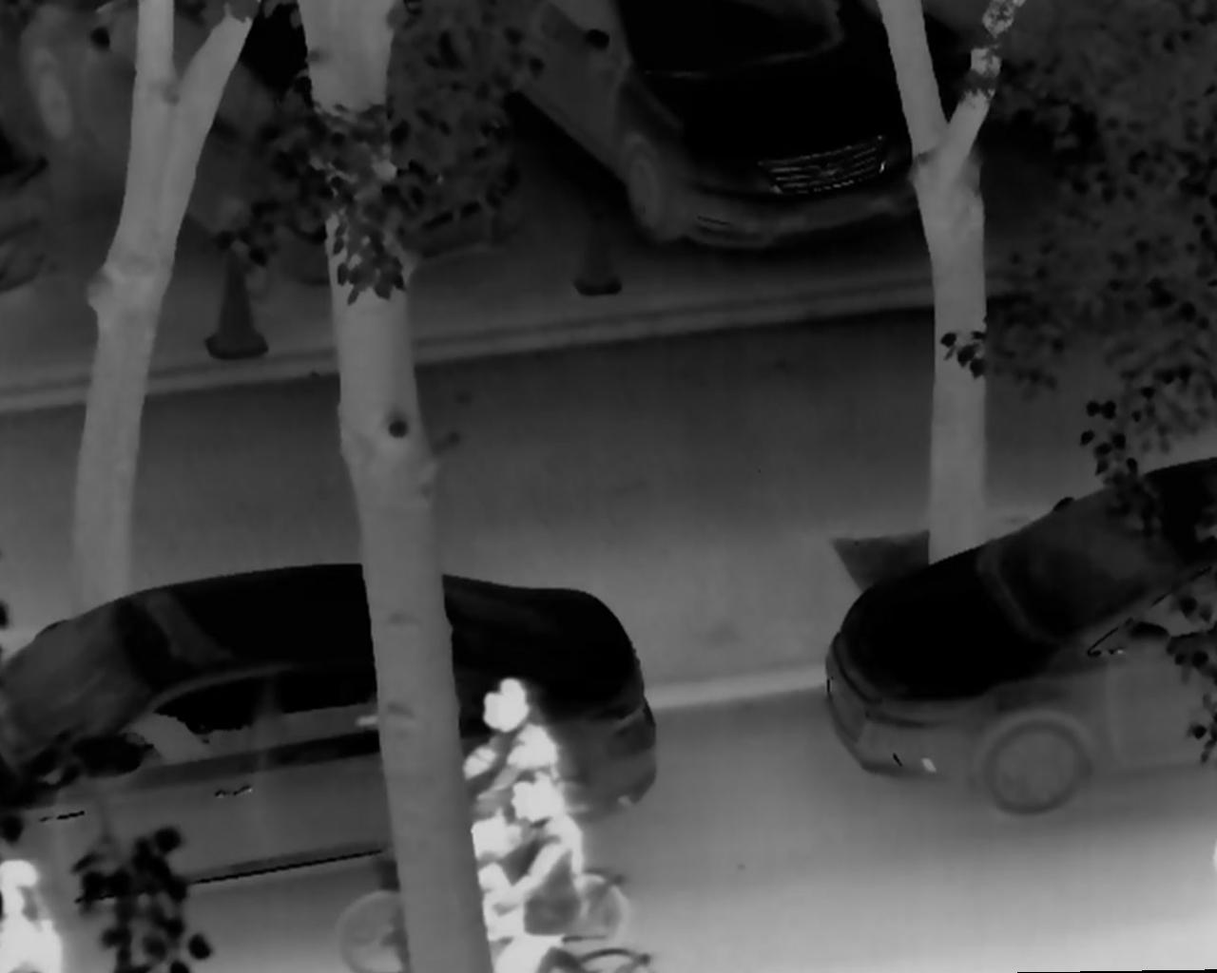person: (470, 766, 602, 973), (449, 664, 559, 886)
